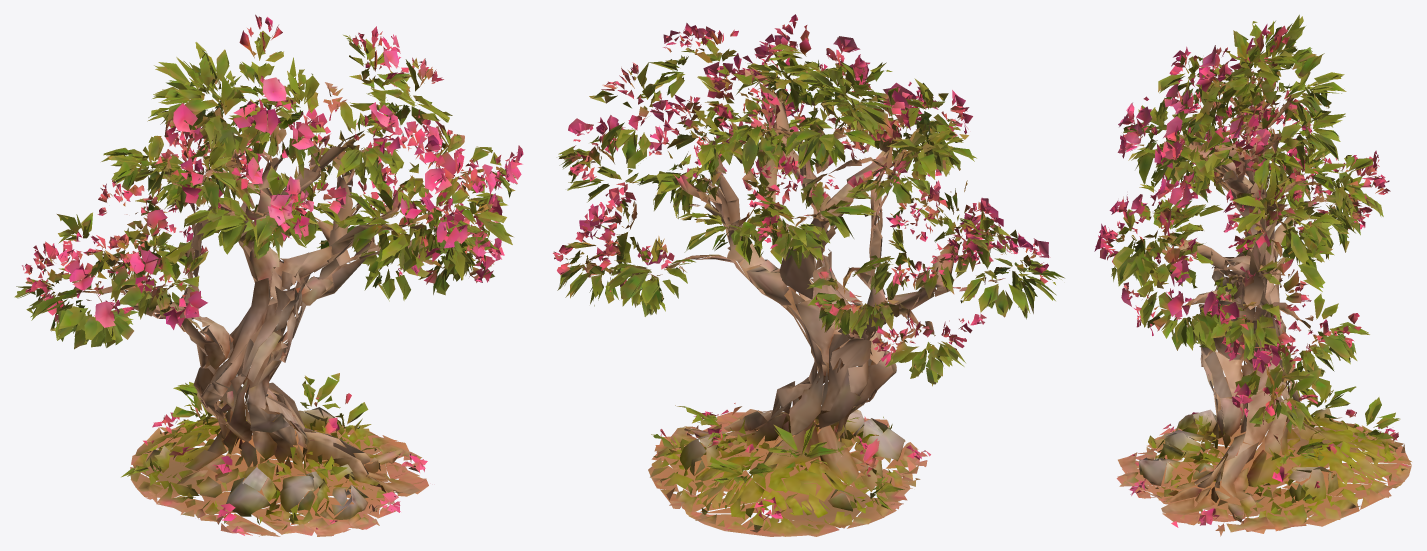
Rendered from base_basic_pbr.glb.
3 views of the same model, side by side, from view 1: azimuth 30°, elevation 25°; view 2: azimuth 150°, elevation 25°; view 3: azimuth 270°, elevation 25° (orthographic). The views are drawn at different scales.
Parts seen in each view (by area): view 1: model; view 2: model; view 3: model.
Part boxes in pixels (x1,y1,x2,y2): model: [14, 14, 523, 536]; model: [553, 14, 1064, 536]; model: [1094, 14, 1411, 536].
Bounding box in the file's own units: 1.9 × 1.76 × 1.12.
1 material, 1 textured.
